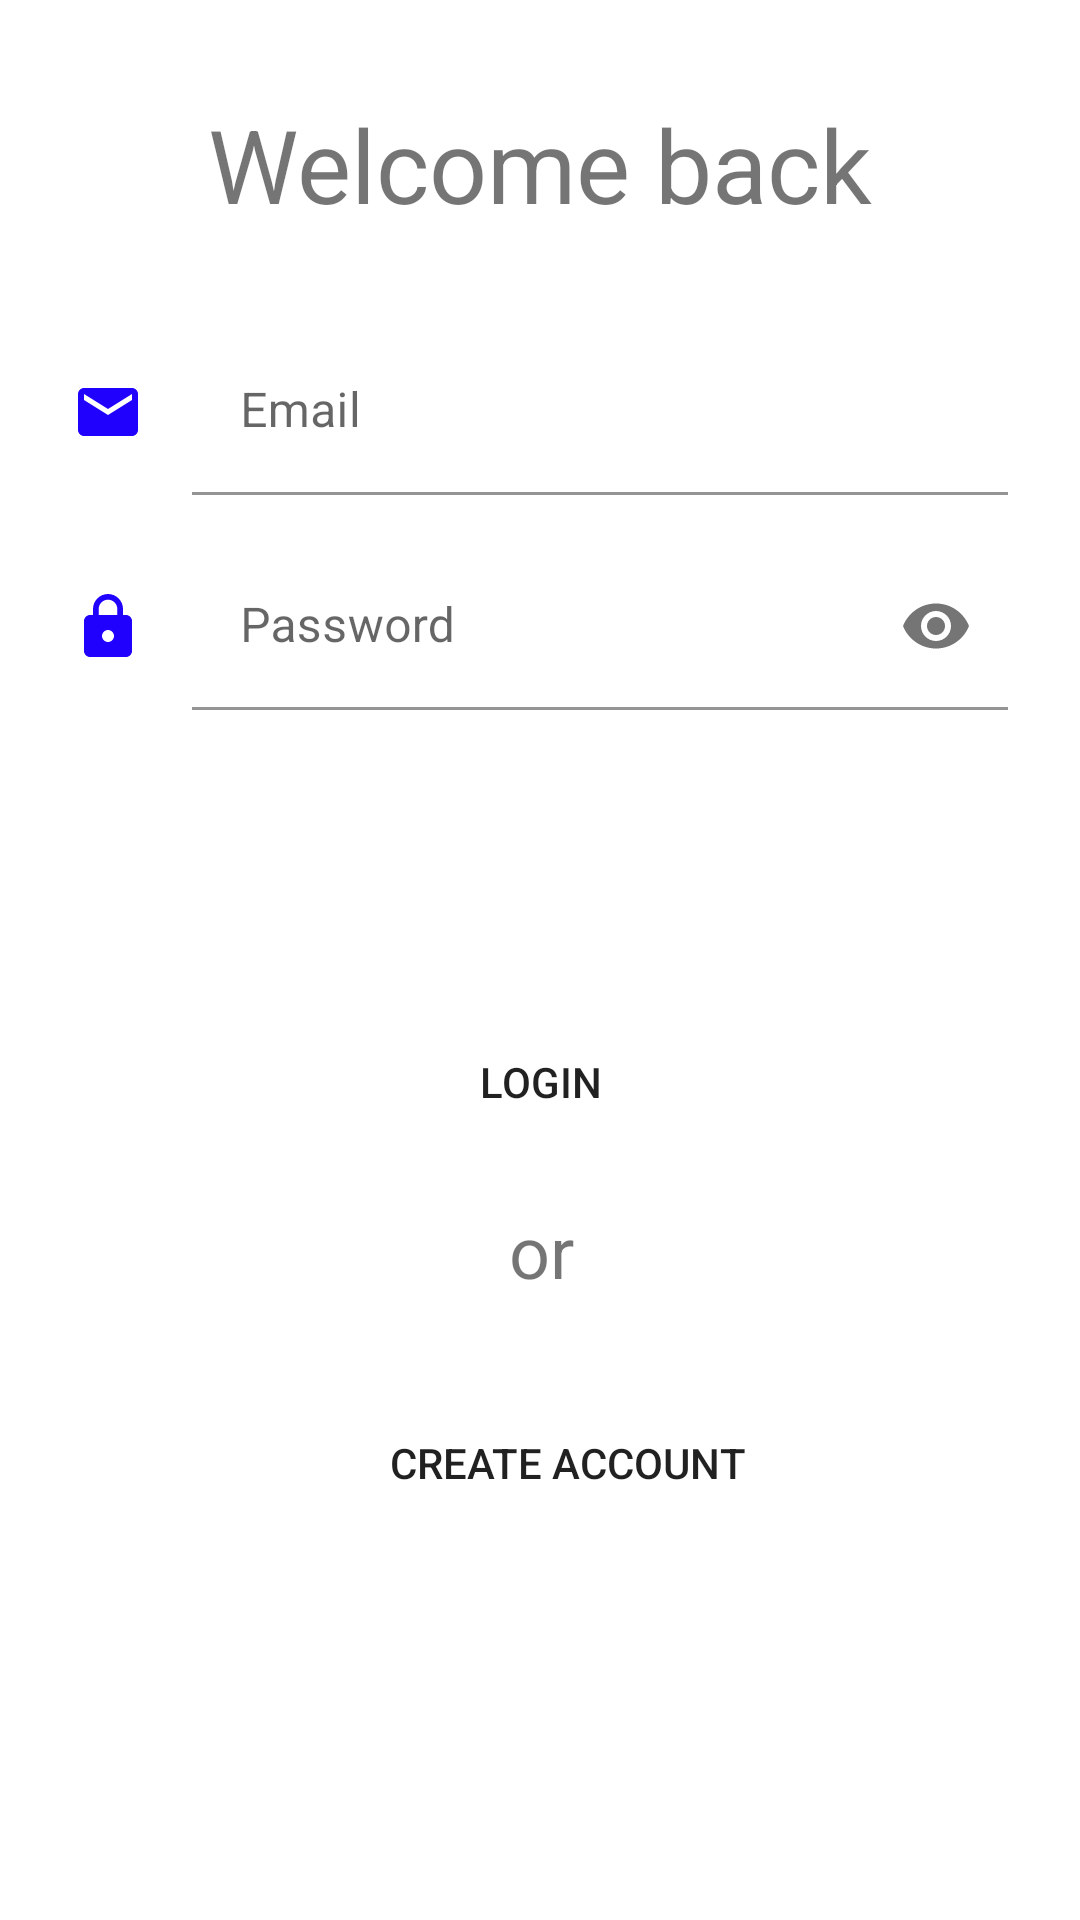

Point at icon controls on the screen. Image size 1080*1920, points as [x,y].
lock: [108,625]
